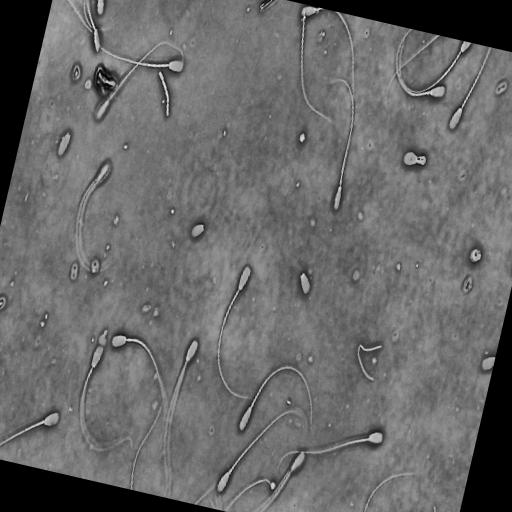coiled-tail: (416, 156, 426, 166), (473, 250, 481, 260)
dirt-particles: (91, 60, 120, 99), (0, 290, 9, 315), (71, 61, 81, 82)
loose-head: (56, 130, 72, 159), (298, 268, 312, 297), (479, 353, 496, 375), (188, 221, 206, 241), (96, 0, 105, 18)
loose-tail: (384, 35, 441, 113), (298, 8, 335, 126), (130, 399, 164, 490), (362, 470, 417, 512), (354, 339, 384, 385)
normal: (91, 35, 185, 124), (215, 408, 306, 496), (79, 344, 134, 455), (163, 339, 200, 497), (238, 363, 314, 436), (74, 159, 121, 275), (216, 266, 255, 402), (110, 333, 170, 420), (277, 429, 384, 473), (89, 28, 185, 75), (326, 76, 356, 213), (446, 47, 492, 135), (393, 28, 446, 100), (0, 409, 61, 449), (465, 244, 485, 266), (403, 149, 427, 167)
